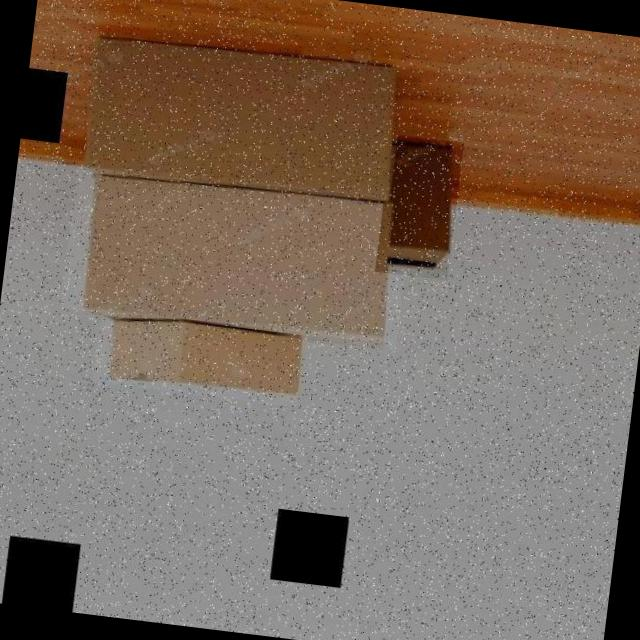box: (61, 17, 408, 204), (60, 165, 413, 348), (90, 305, 304, 407), (374, 133, 464, 280)
